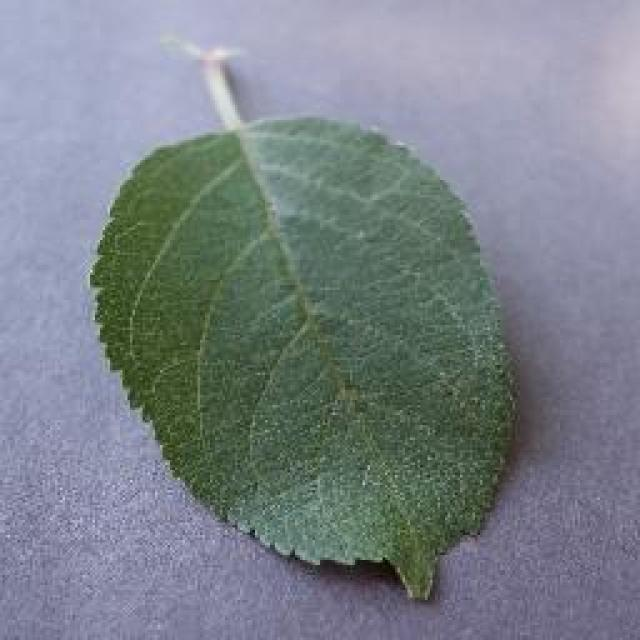apple healthy: (85, 38, 523, 600)
